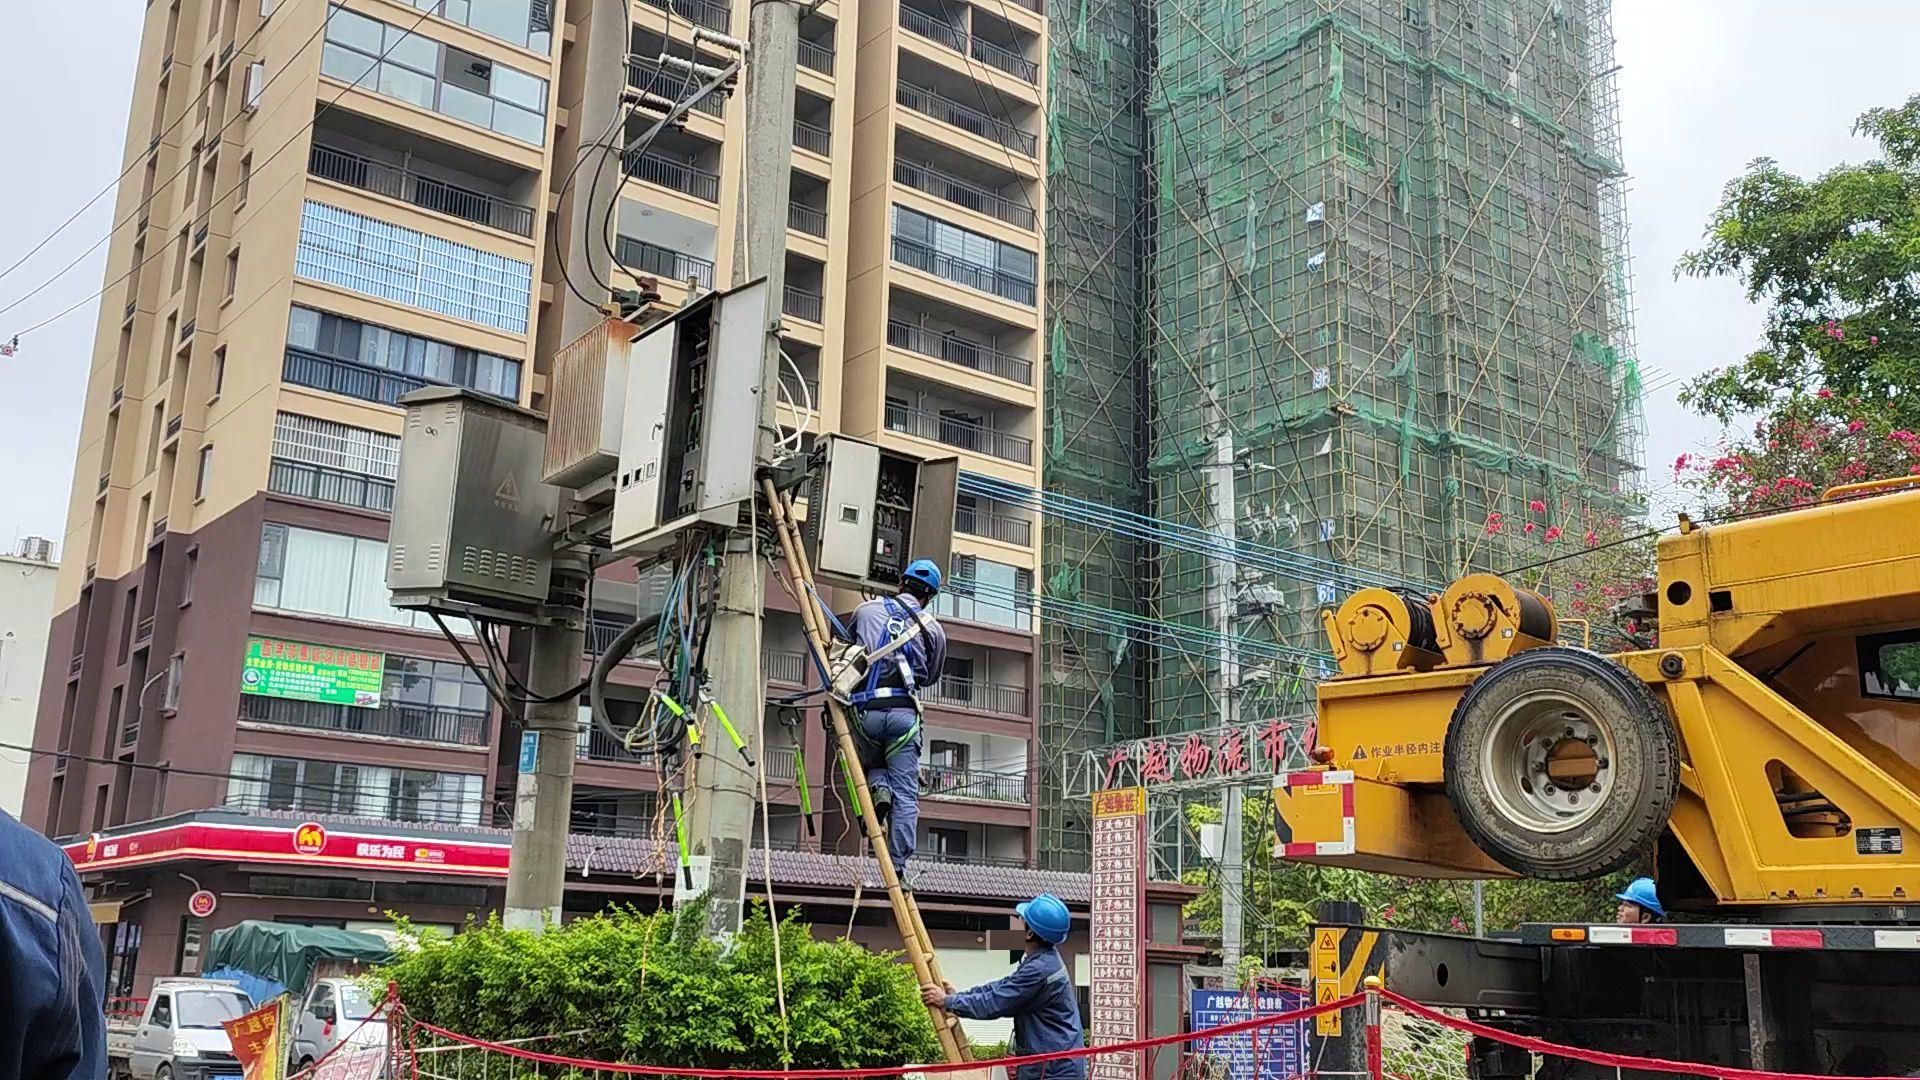halt: (1018, 897, 1073, 949), (1617, 880, 1668, 931), (901, 560, 945, 604)
